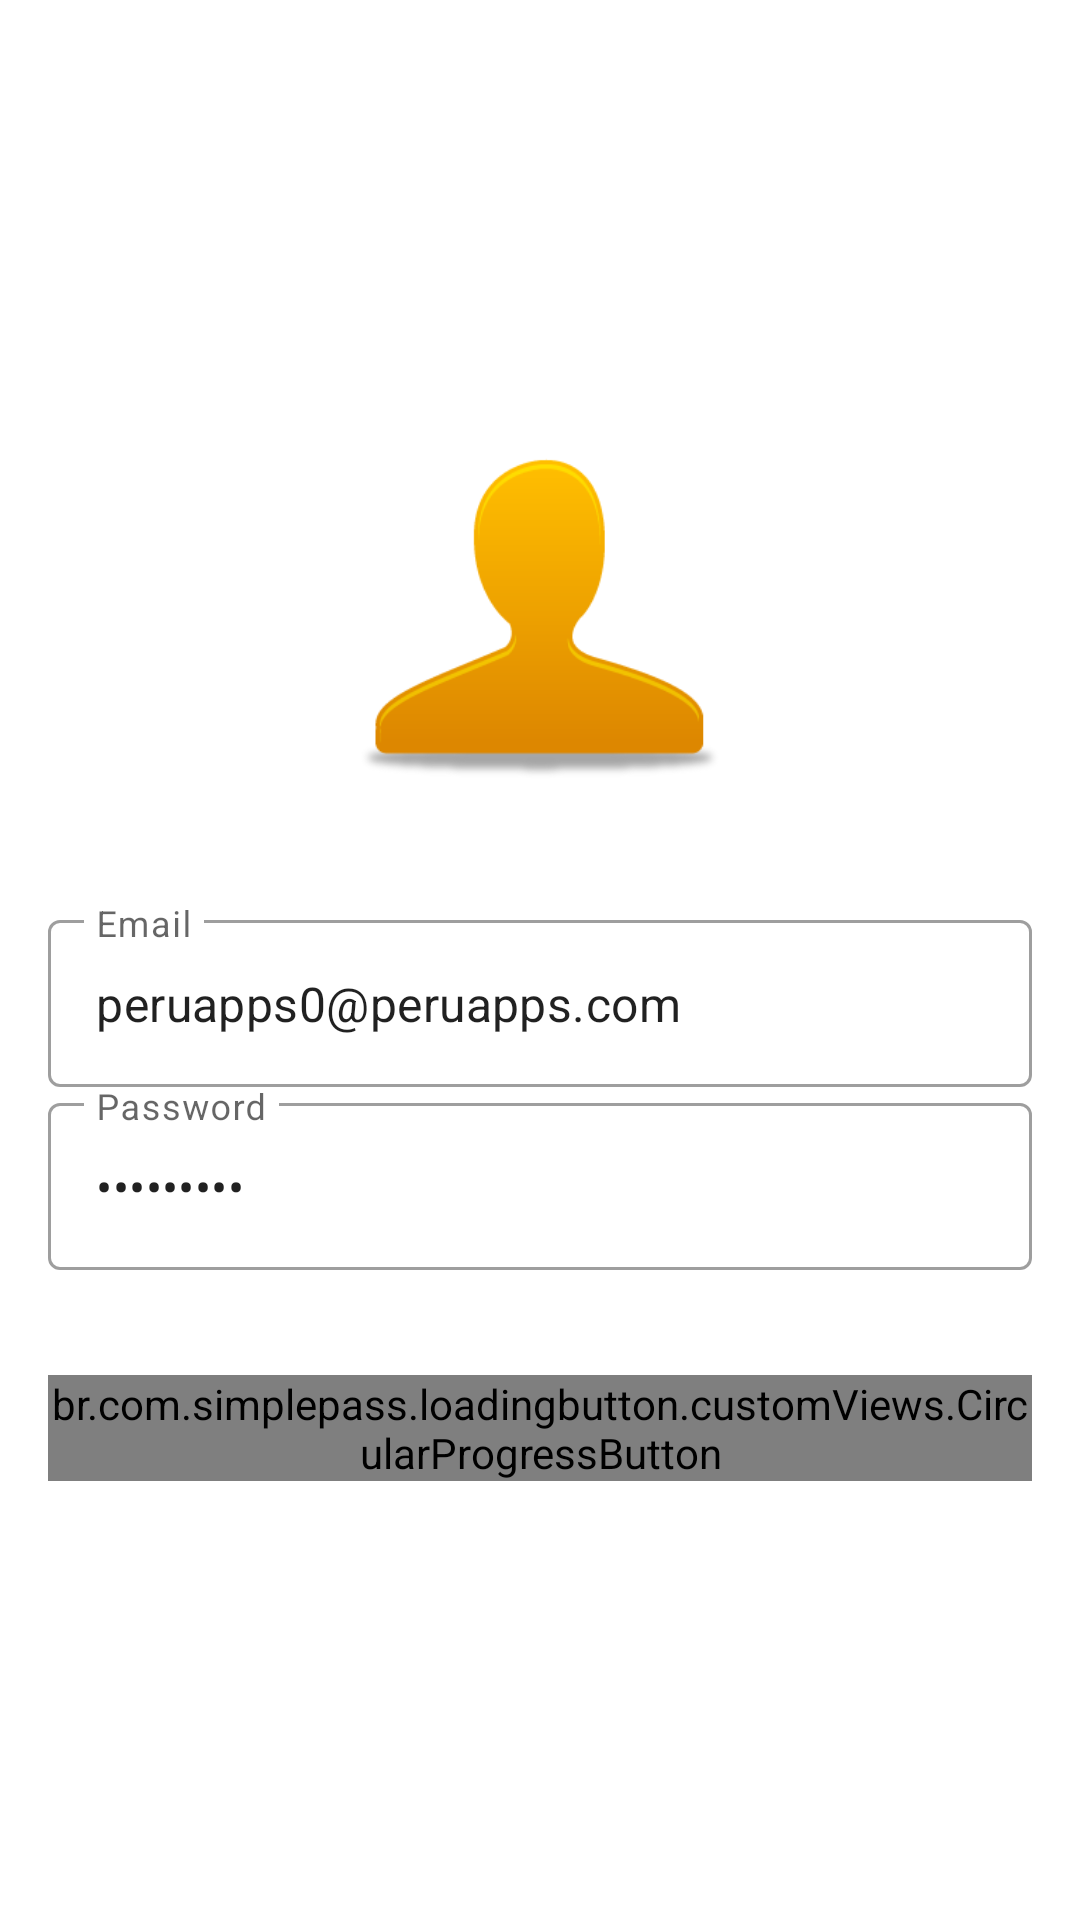

Screen size 1080*1920. Icon name, then its box in pixels as [x1, y1, x2, y2]:
user: [369, 459, 711, 772]
